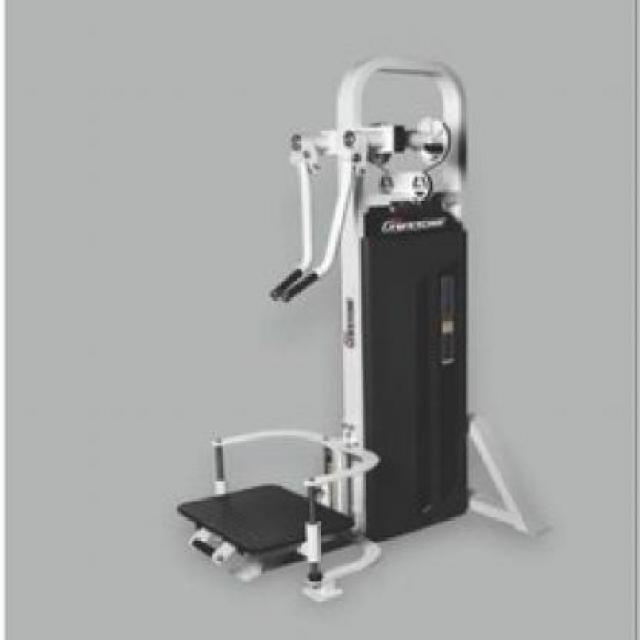lateral raises machine: (178, 59, 556, 602)
